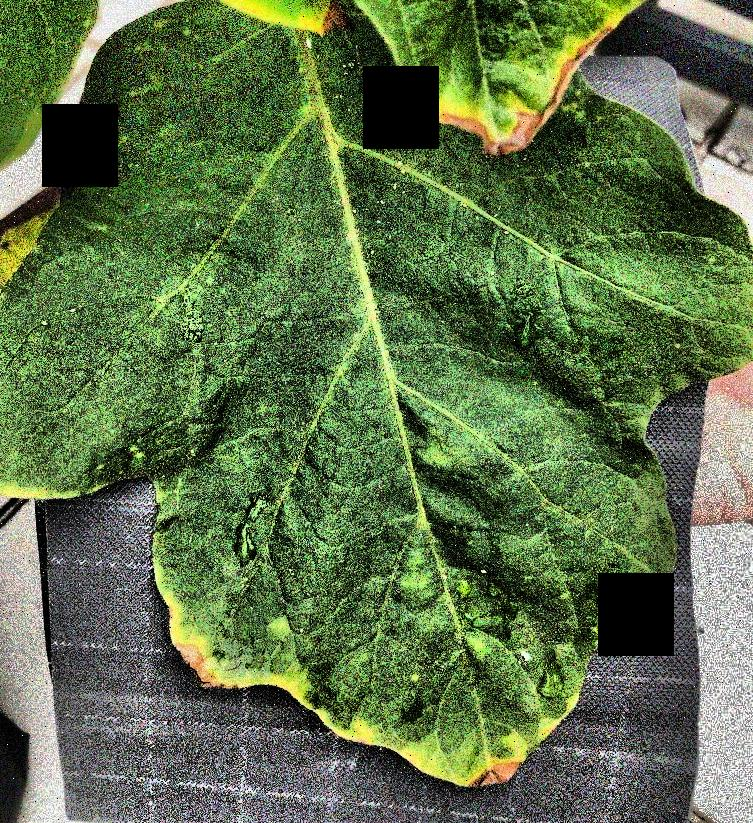Non-critical Stress: (1, 0, 753, 823)
